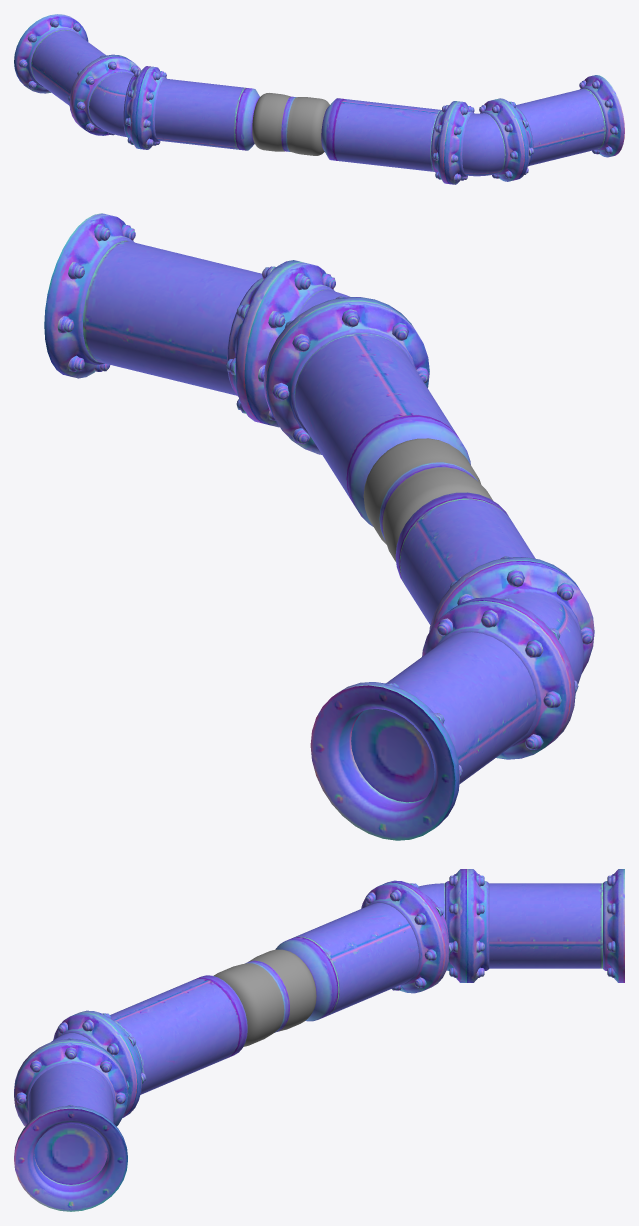
File: Pipe_D160_A_Convex_Angled_600_A.fbx
3 views of the same model, one above another, from view 1: azimuth 30°, elevation 25°; view 2: azimuth 150°, elevation 25°; view 3: azimuth 270°, elevation 25° (orthographic). The views are drawn at different scales.
Visible parts, largest first — view 1: Geom_Pipe_D160_A_Convex_Angled_600_A_LOD00; view 2: Geom_Pipe_D160_A_Convex_Angled_600_A_LOD00; view 3: Geom_Pipe_D160_A_Convex_Angled_600_A_LOD00.
Part boxes in pixels (x1,y1,x2,y2): Geom_Pipe_D160_A_Convex_Angled_600_A_LOD00: (14,14,624,184); Geom_Pipe_D160_A_Convex_Angled_600_A_LOD00: (44,213,594,840); Geom_Pipe_D160_A_Convex_Angled_600_A_LOD00: (14,869,624,1211).
Size of what is drawn, in the model's own units: 882 by 882 by 165.
